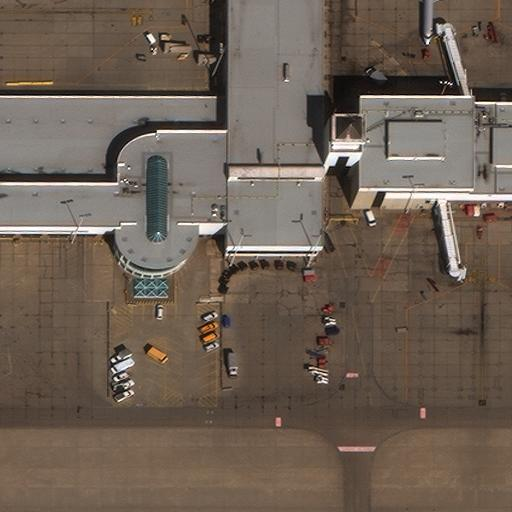Medium Civil Transport: (397, 0, 459, 45)
